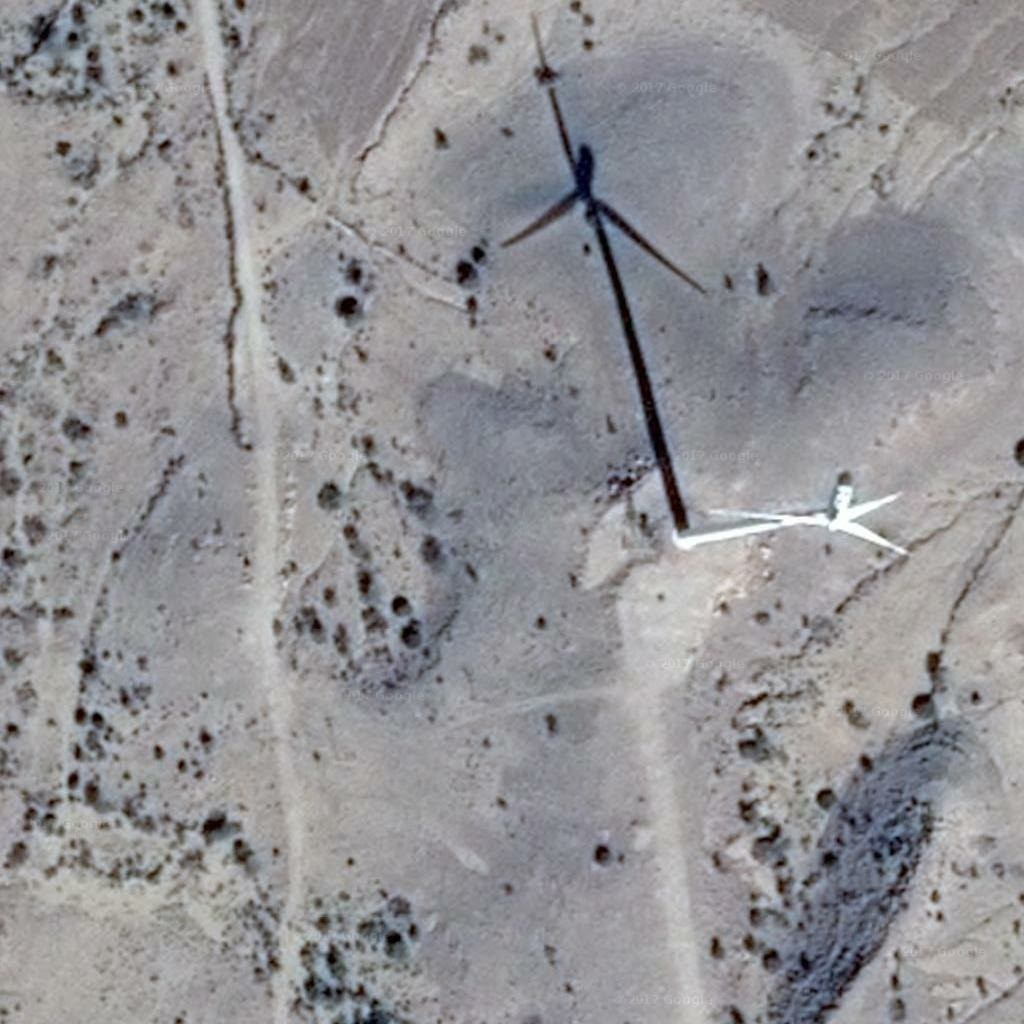Windmill: (488, 75, 699, 534)
